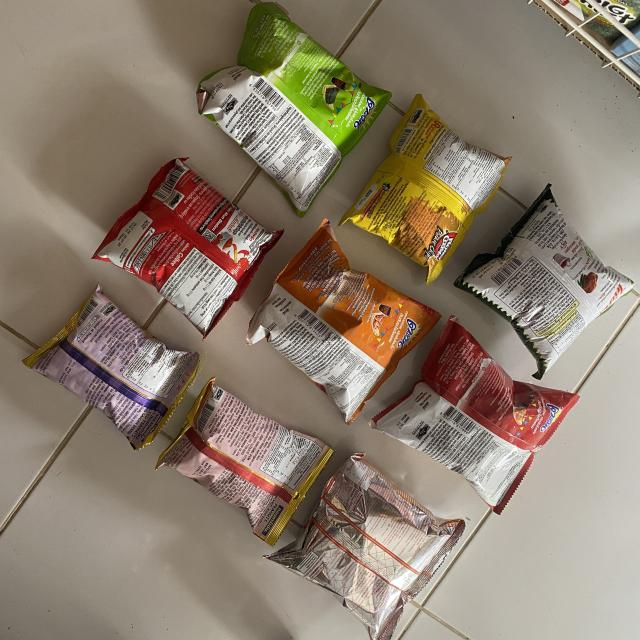plastik: (198, 2, 390, 216), (370, 316, 579, 512), (246, 220, 441, 424), (266, 454, 465, 640), (455, 185, 634, 379), (92, 158, 282, 338), (340, 94, 511, 284), (156, 378, 332, 545), (24, 285, 199, 449)
